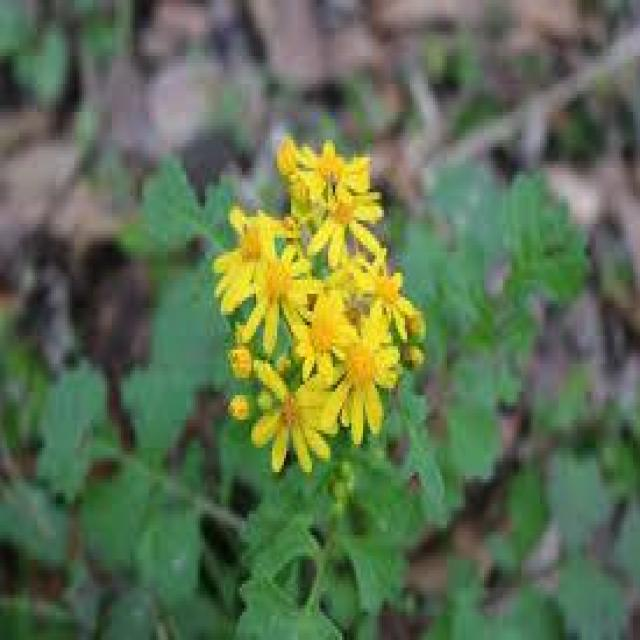organic waste: (219, 133, 419, 462)
